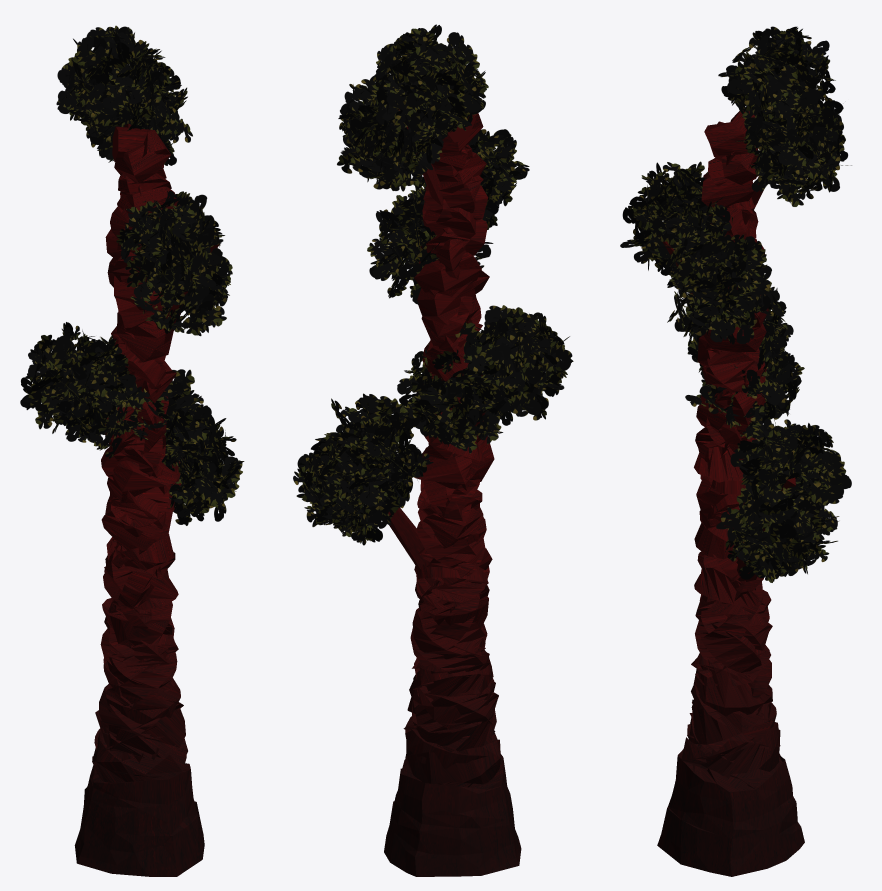
The model's file is deadwood_snag_v03_LOD1.glb.
3 views of the same model, side by side, from view 1: azimuth 30°, elevation 25°; view 2: azimuth 150°, elevation 25°; view 3: azimuth 270°, elevation 25° (orthographic). The views are drawn at different scales.
Parts seen in each view (by area): view 1: deadwood_snag_v03_LOD1; view 2: deadwood_snag_v03_LOD1; view 3: deadwood_snag_v03_LOD1.
Boxes of the visible parts, x1,y1,x2,y2 form: deadwood_snag_v03_LOD1: (20, 25, 244, 876); deadwood_snag_v03_LOD1: (293, 24, 573, 876); deadwood_snag_v03_LOD1: (620, 26, 851, 876).
Bounding box in the file's own units: 2.9 × 9.3 × 2.6.
2 materials, 2 textured.
